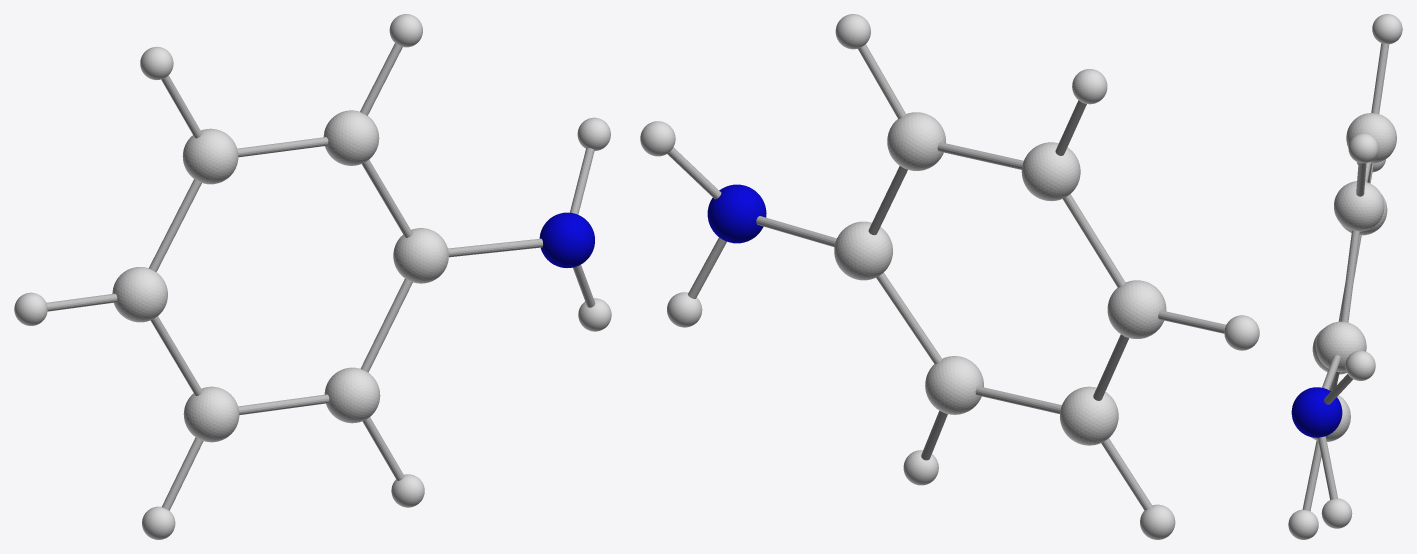
File: Nc1ccccc1.glb
3 renders of one model, left to right at view 1: azimuth 30°, elevation 25°; view 2: azimuth 150°, elevation 25°; view 3: azimuth 270°, elevation 25°, orthographic. The views are drawn at different scales.
Parts seen in each view (by area): view 1: world; view 2: world; view 3: world.
Boxes of the visible parts, x1=… form: world: x1=14, y1=14, x2=611, y2=539; world: x1=640, y1=14, x2=1259, y2=539; world: x1=1288, y1=14, x2=1402, y2=539.
Bounding box in the file's own units: 6.08 × 4.7 × 1.13.
